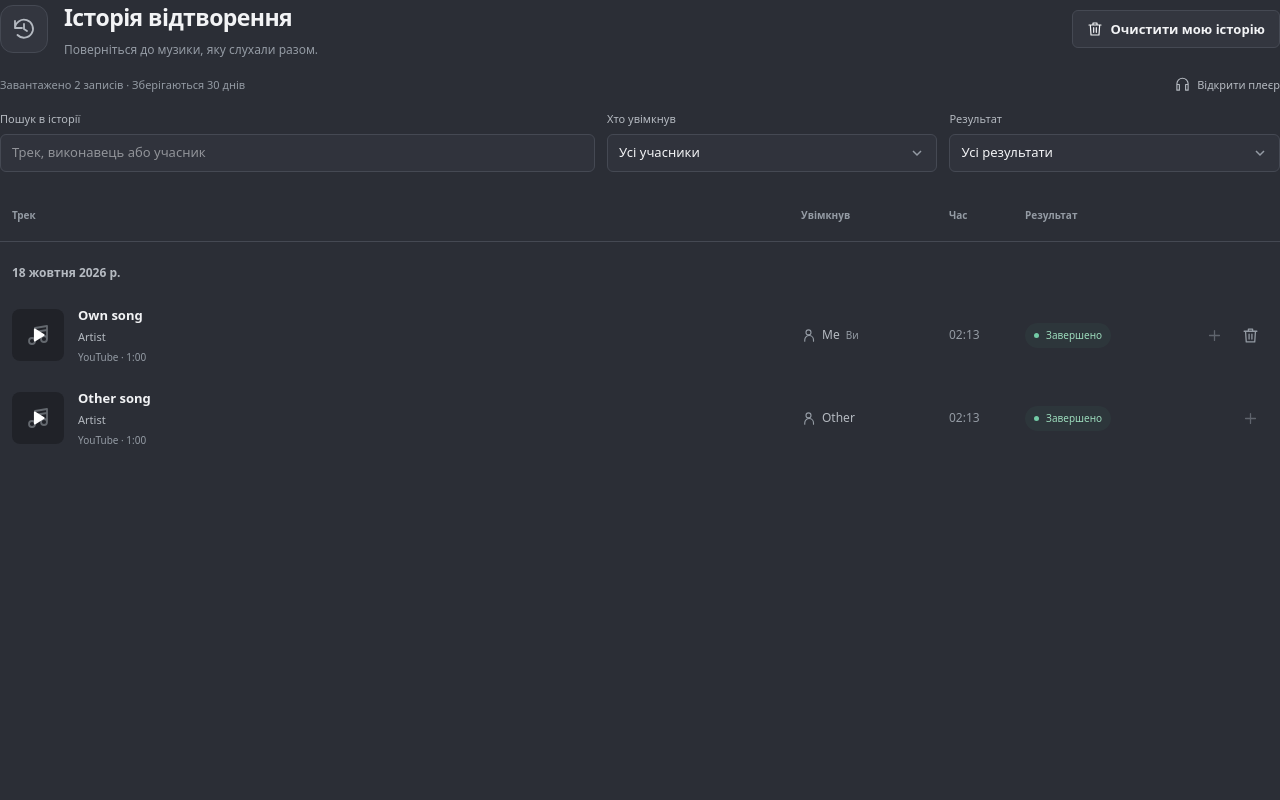
Test: Media history interactions › clears own entries across all backend batches while keeping the other participant history
Click the button "Очистити мою історію" at (1176, 29), box x1=1072 y1=10 x2=1279 y2=48
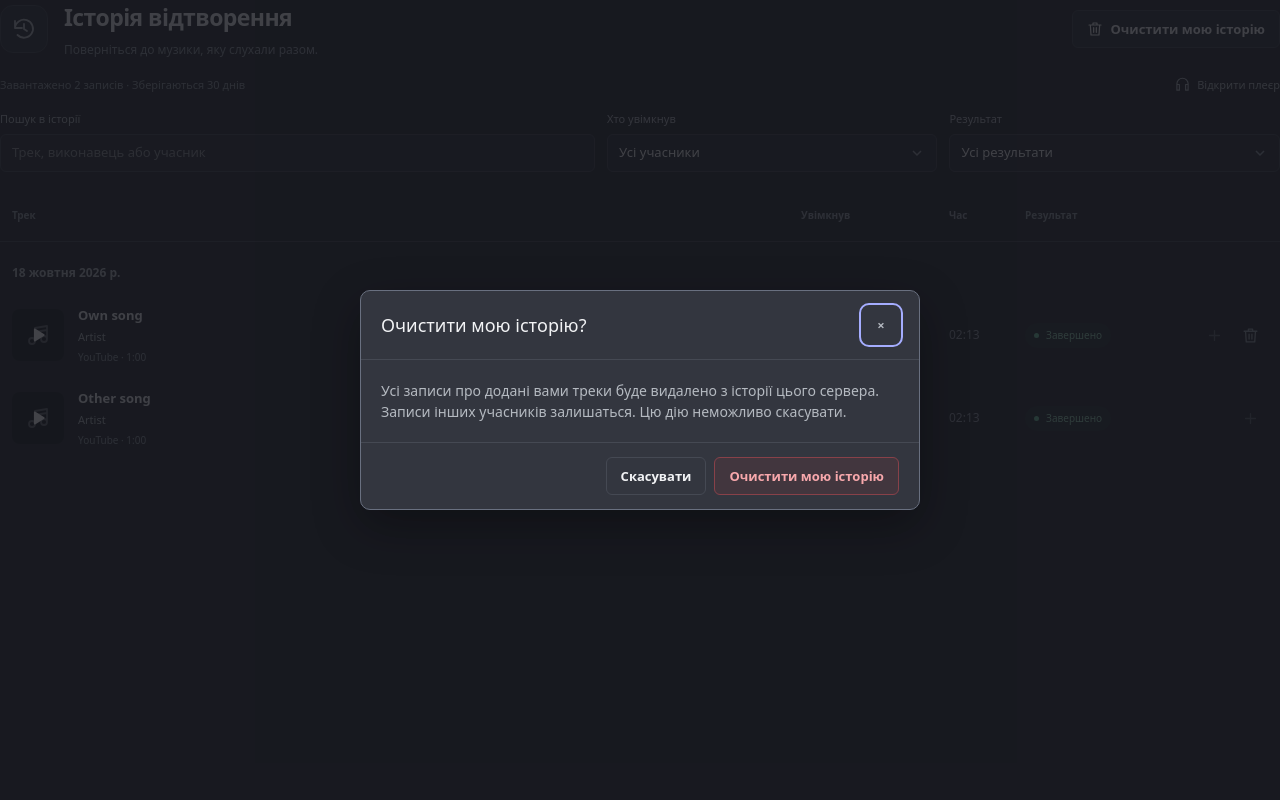
Click the button "Очистити мою історію" at (807, 476), box x1=714 y1=457 x2=899 y2=495
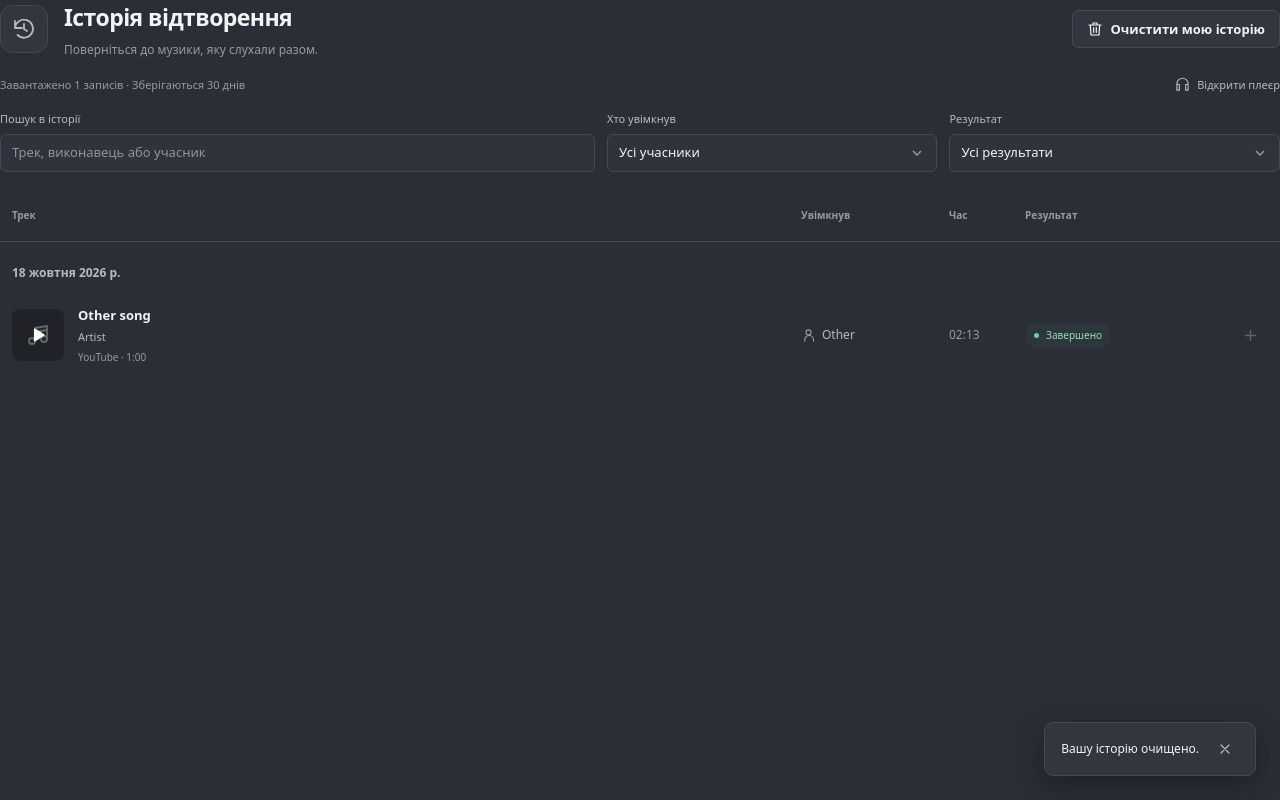
Expected: the text "Other song" is shown, x1=78 y1=306 x2=151 y2=324
Result: the text "Own song" is gone
